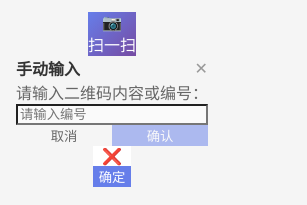
Test: QRScanner Component › 扫码功能 › 应该在点击扫码按钮时启动扫码
The image size is (307, 205).
Click the button "📷 扫一扫" at (112,34), box left=88, top=12, right=136, bottom=56
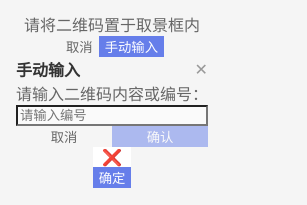
Check: the element showing "请将二维码置于取景框内 取消 手动输入" is shown, box left=24, top=12, right=200, bottom=57
